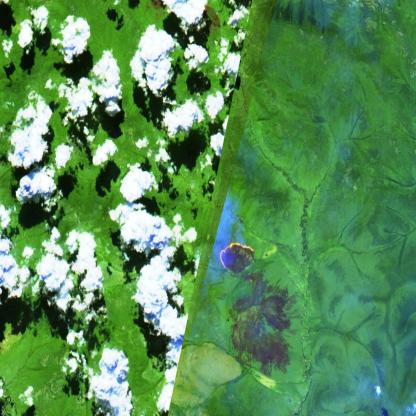fire: (218, 239, 257, 279)
